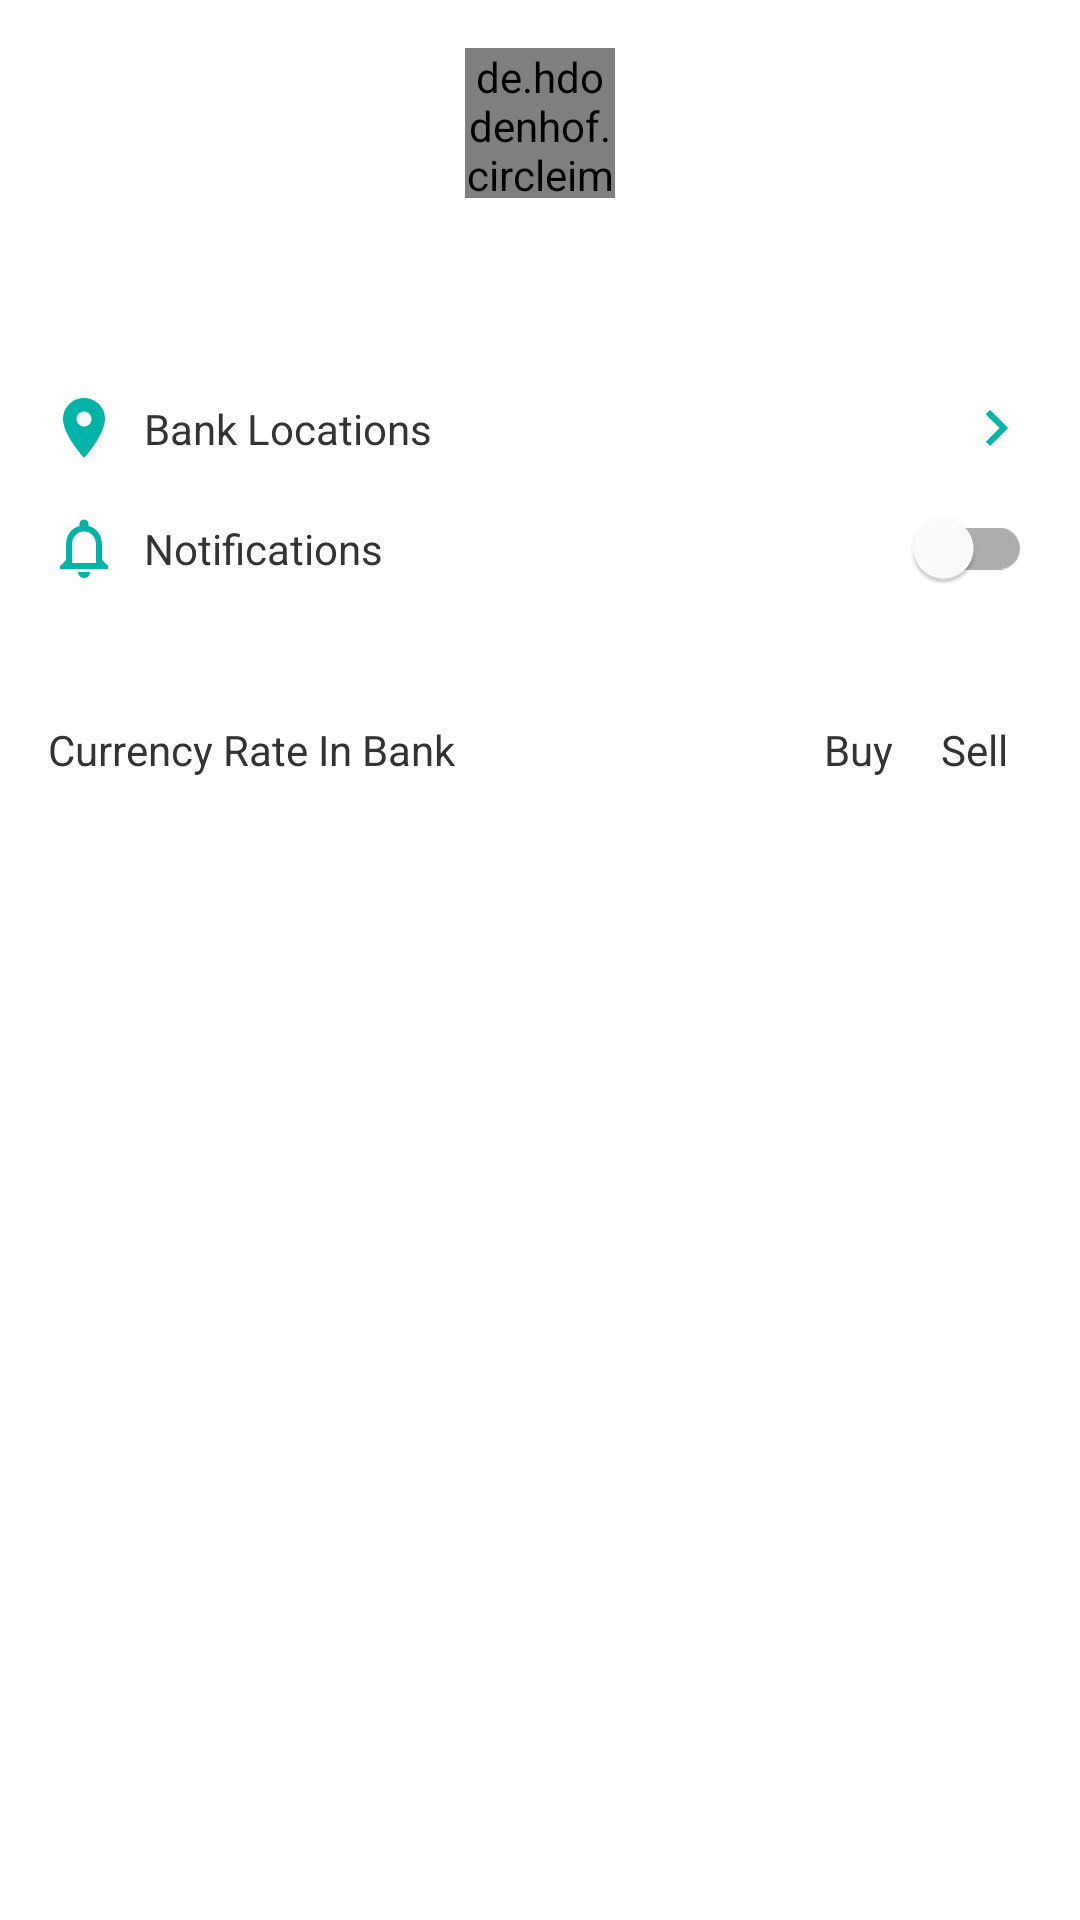

Where icons sit on this 1080w x 1920h app screen, as (left=x1, top=y1, right=x2, bottom=y2):
keyboard arrow right: (left=986, top=410, right=1008, bottom=446)
location on: (left=63, top=398, right=105, bottom=458)
